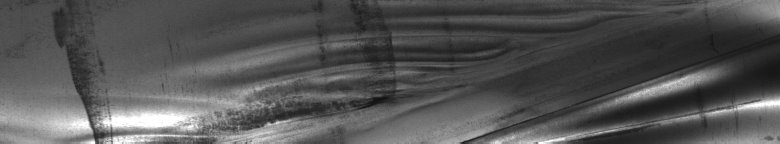ke: (68, 12, 776, 136)
